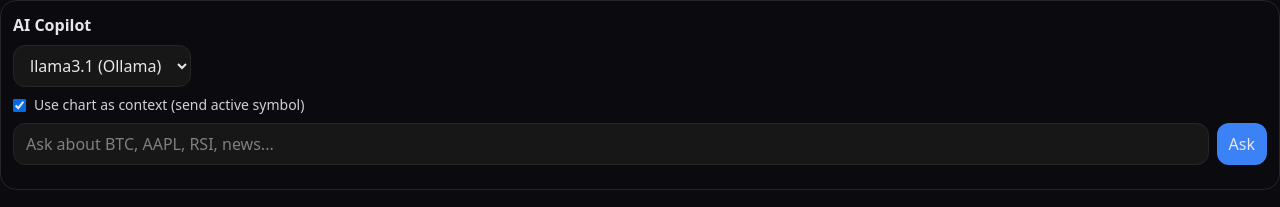
CopilotChat › Model Selection › should show custom input when Custom is selected
Select "Custom…" in the dropdown named "model preset": (102, 66) [13, 45, 191, 87]
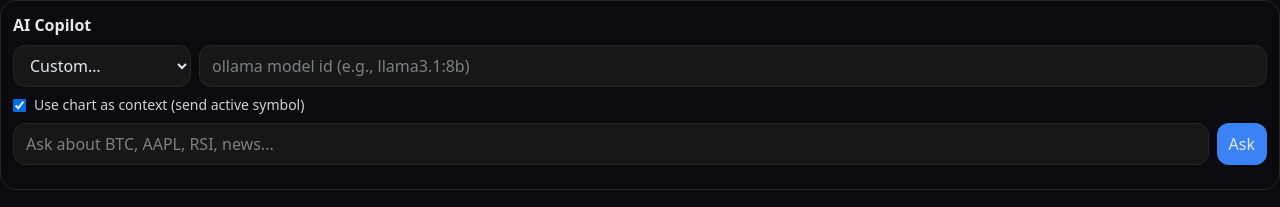
Check: the field with placeholder "ollama model id (e.g., llama3.1:8b)" is shown, box [199, 45, 1267, 87]
